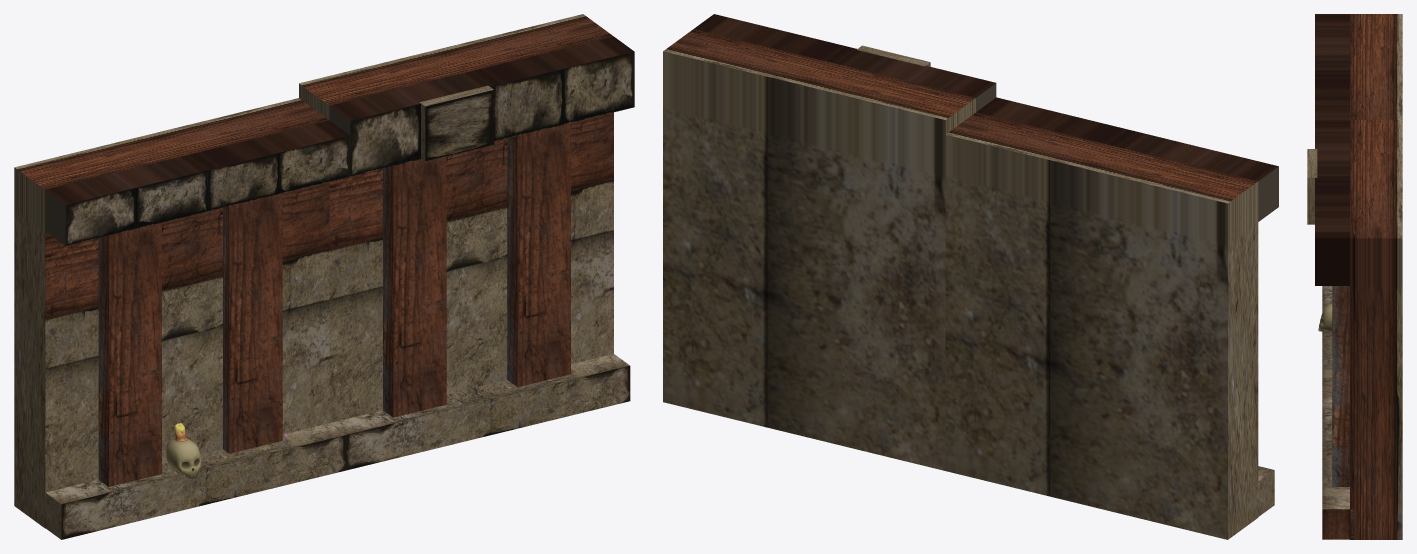
The model's file is architecture_tests.gltf.
3 renders of one model, left to right at view 1: azimuth 30°, elevation 25°; view 2: azimuth 150°, elevation 25°; view 3: azimuth 270°, elevation 25°, orthographic. The views are drawn at different scales.
Visible parts, largest first — view 1: Cube, Cube.001, Cube.002, mesh; view 2: Cube, Cube.001; view 3: Cube.001, Cube, Cube.002, mesh.
Part boxes in pixels (left/top/right/bottom): Cube: left=14, top=98, right=349, bottom=539; Cube.001: left=299, top=14, right=634, bottom=470; Cube.002: left=419, top=85, right=493, bottom=161; mesh: left=165, top=423, right=201, bottom=478; Cube: left=945, top=97, right=1278, bottom=539; Cube.001: left=663, top=14, right=996, bottom=470; Cube.001: left=1315, top=120, right=1402, bottom=539; Cube: left=1315, top=14, right=1402, bottom=390; Cube.002: left=1307, top=149, right=1317, bottom=224; mesh: left=1318, top=303, right=1332, bottom=331.
Bounding box in the file's own units: 4 × 2.38 × 0.6788.
Materials: 2 (2 with a texture image).
